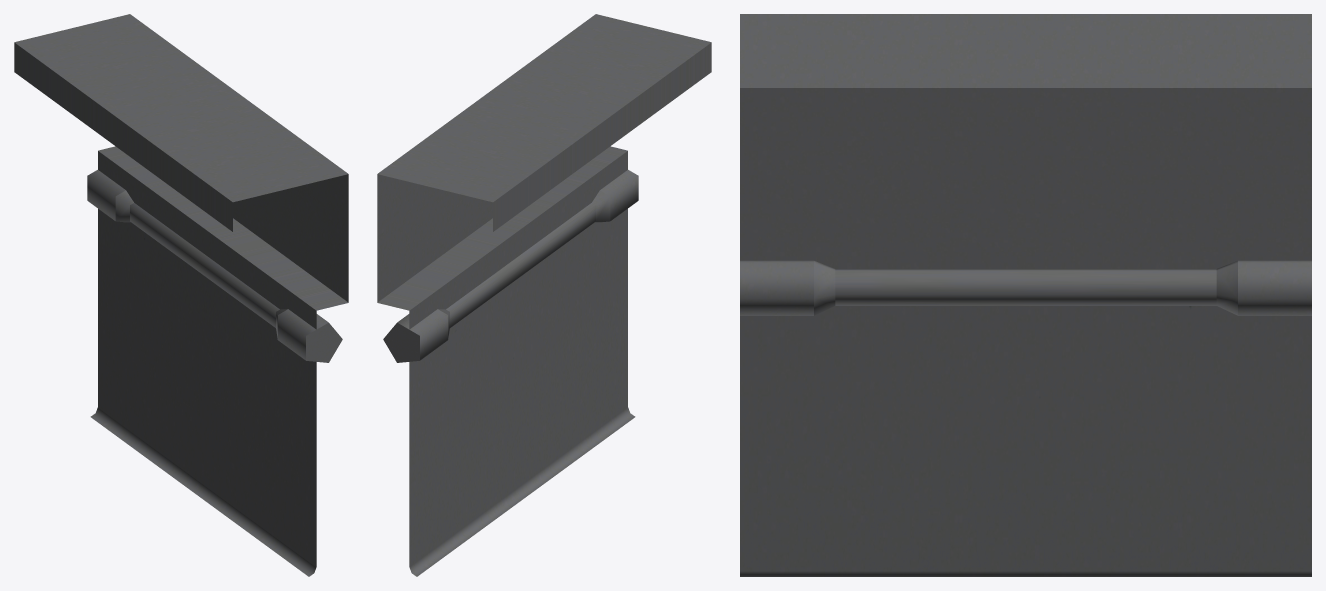
File: SM_walkway_trim_b_50.fbx
The picture shows the model from 3 angles, left to right: view 1: azimuth 30°, elevation 25°; view 2: azimuth 150°, elevation 25°; view 3: azimuth 270°, elevation 25°; orthographic projection. The views are drawn at different scales.
Visible parts, largest first — view 1: smalltrim_b; view 2: smalltrim_b; view 3: smalltrim_b.
Boxes of the visible parts, bbox=[...] form: smalltrim_b: bbox=[14, 14, 348, 576]; smalltrim_b: bbox=[377, 14, 711, 576]; smalltrim_b: bbox=[740, 14, 1311, 576].
Size of the model in its own units: 0.3338 by 1.08 by 1.09.
1 material, 1 textured.
